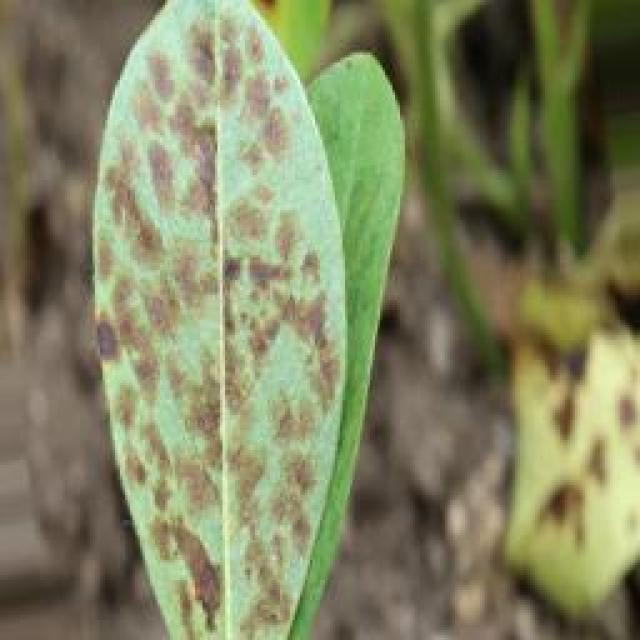Whitefly: (54, 0, 358, 640)
